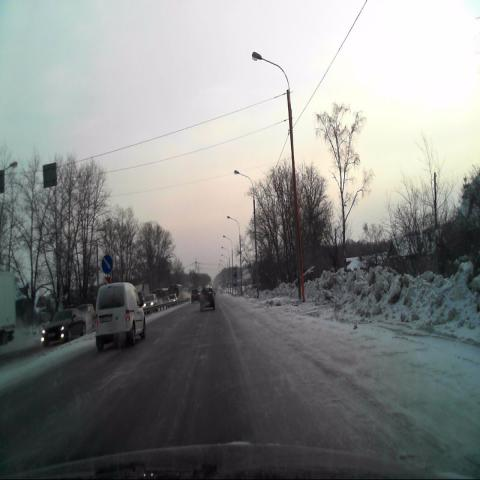4_2_1: (101, 254, 113, 275)
